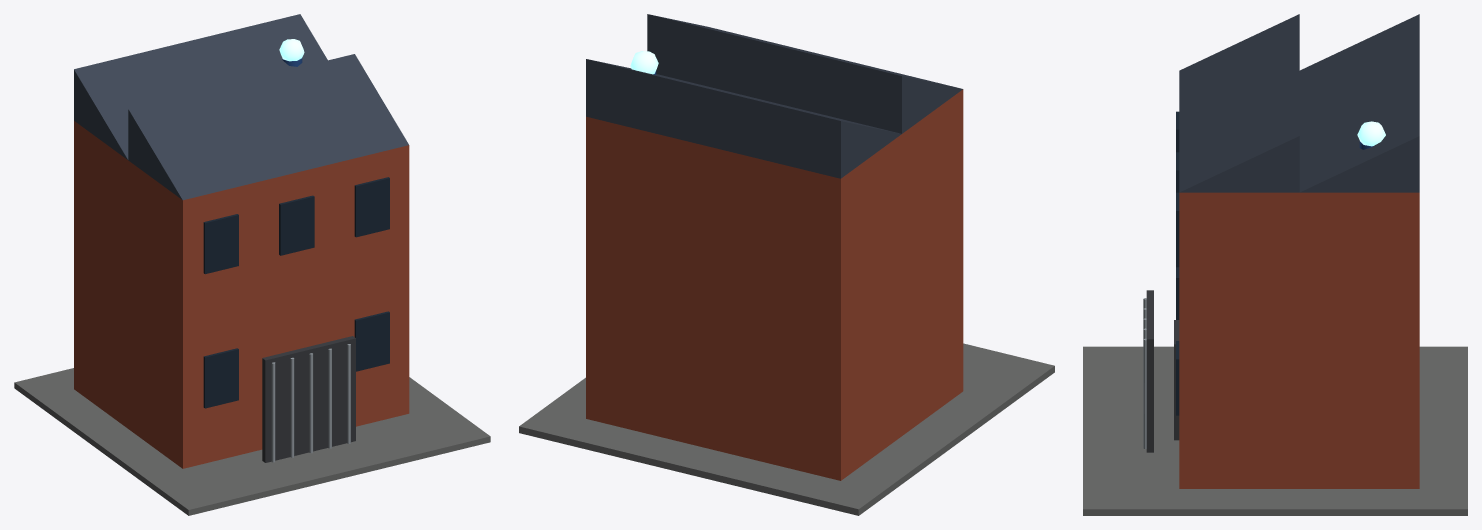
Rendered from bld_special_police_a05_lod1.glb.
3 views of the same model, side by side, from view 1: azimuth 30°, elevation 25°; view 2: azimuth 150°, elevation 25°; view 3: azimuth 270°, elevation 25° (orthographic). The views are drawn at different scales.
Visible parts, largest first — view 1: body; view 2: body; view 3: body.
Boxes of the visible parts, bbox=[...] form: body: bbox=[14, 14, 490, 515]; body: bbox=[519, 14, 1054, 515]; body: bbox=[1083, 14, 1467, 515].
Bounding box in the file's own units: 8 × 8.25 × 8.
